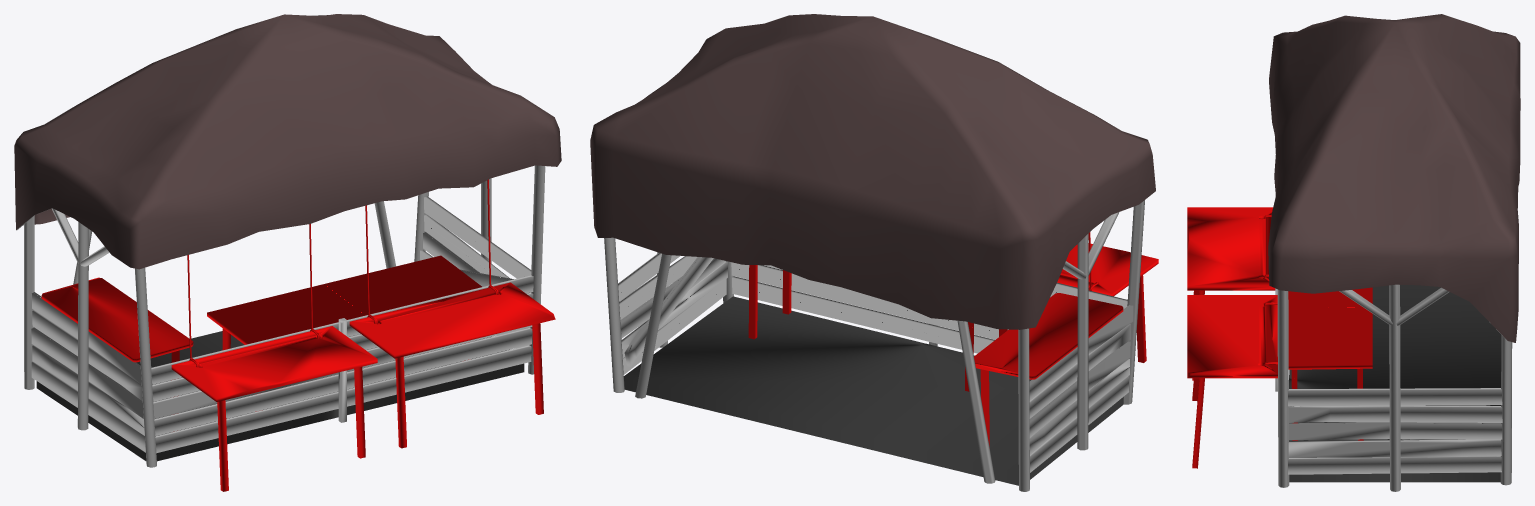
File: BakeryMarket.fbx
3 views of the same model, side by side, from view 1: azimuth 30°, elevation 25°; view 2: azimuth 150°, elevation 25°; view 3: azimuth 270°, elevation 25° (orthographic). The views are drawn at different scales.
Visible parts, largest first — view 1: polySurface18; view 2: polySurface18; view 3: polySurface18.
Part boxes in pixels (bbox=[...]): polySurface18: bbox=[14, 14, 561, 491]; polySurface18: bbox=[590, 14, 1158, 491]; polySurface18: bbox=[1187, 14, 1520, 491].
Bounding box in the file's own units: 530 × 425 × 349.
